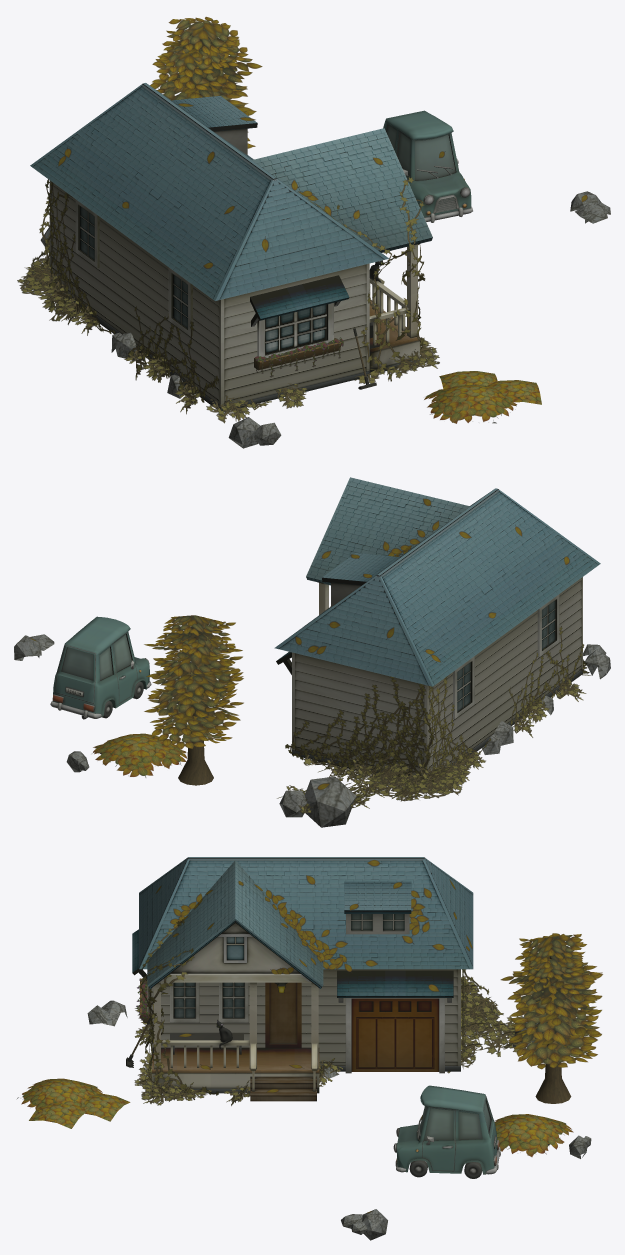
File: house1.glb
The picture shows the model from 3 angles, top to bottom: view 1: azimuth 30°, elevation 25°; view 2: azimuth 150°, elevation 25°; view 3: azimuth 270°, elevation 25°; orthographic projection. The views are drawn at different scales.
Parts seen in each view (by area): view 1: House_base, polySurface197, polySurface355, initialShadingGrouppolySurface116_polySurface3, House_window_01, polySurface226, polySurface243, House_smallroof_02, House_veranda, House_windows_06, House_windows_05, polySurface470 (+8 smaller); view 2: House_base, polySurface355, polySurface197, initialShadingGrouppolySurface116_polySurface3, polySurface250, polySurface276, House_smallroof_02, House_windows_05, House_windows_06, polySurface470, polySurface480, polySurface476 (+9 smaller); view 3: House_base, polySurface355, polySurface197, initialShadingGrouppolySurface116_polySurface3, Garage_door, House_veranda, polySurface179, House_roof_part_02, House_door, polySurface250, House_smallroof_02, House_stairs (+14 smaller).
Part boxes in pixels (x1,y1,x2,y2): House_base: [30, 83, 388, 410]; polySurface197: [252, 128, 432, 252]; polySurface355: [150, 16, 262, 148]; initialShadingGrouppolySurface116_polySurface3: [383, 110, 472, 222]; House_window_01: [257, 303, 333, 359]; polySurface226: [250, 275, 349, 326]; polySurface243: [424, 384, 516, 423]; House_smallroof_02: [171, 95, 257, 131]; House_veranda: [369, 301, 419, 372]; House_windows_06: [75, 199, 99, 268]; House_windows_05: [168, 267, 192, 336]; polySurface470: [17, 256, 58, 296]; House_base: [274, 488, 600, 779]; polySurface355: [144, 615, 243, 785]; polySurface197: [306, 477, 470, 585]; initialShadingGrouppolySurface116_polySurface3: [50, 616, 151, 719]; polySurface250: [92, 733, 187, 777]; polySurface276: [304, 776, 356, 827]; House_smallroof_02: [322, 553, 400, 585]; House_windows_05: [537, 594, 559, 657]; House_windows_06: [453, 656, 474, 719]; polySurface470: [407, 763, 455, 798]; polySurface480: [365, 762, 413, 797]; polySurface476: [315, 684, 405, 775]; House_base: [139, 857, 473, 1071]; polySurface355: [500, 933, 602, 1103]; polySurface197: [147, 860, 323, 988]; initialShadingGrouppolySurface116_polySurface3: [393, 1085, 500, 1178]; Garage_door: [345, 998, 444, 1073]; House_veranda: [152, 1047, 319, 1093]; polySurface179: [337, 970, 453, 1002]; House_roof_part_02: [171, 923, 299, 973]; House_door: [265, 982, 301, 1048]; polySurface250: [494, 1114, 573, 1156]; House_smallroof_02: [344, 881, 411, 913]; House_stairs: [250, 1076, 316, 1101].
Size of the model in its own units: 46.55 by 18.7 by 49.68.
4 materials, 4 textured.
